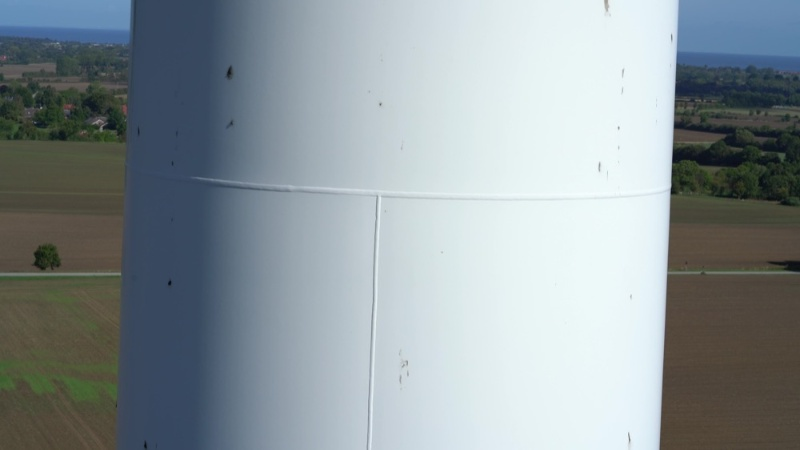weldseam: (123, 158, 672, 207), (362, 183, 386, 450)
